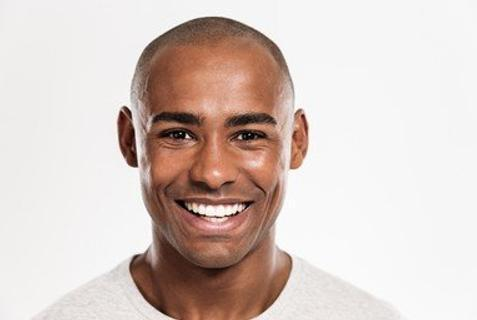Sober: (147, 51, 283, 267)
